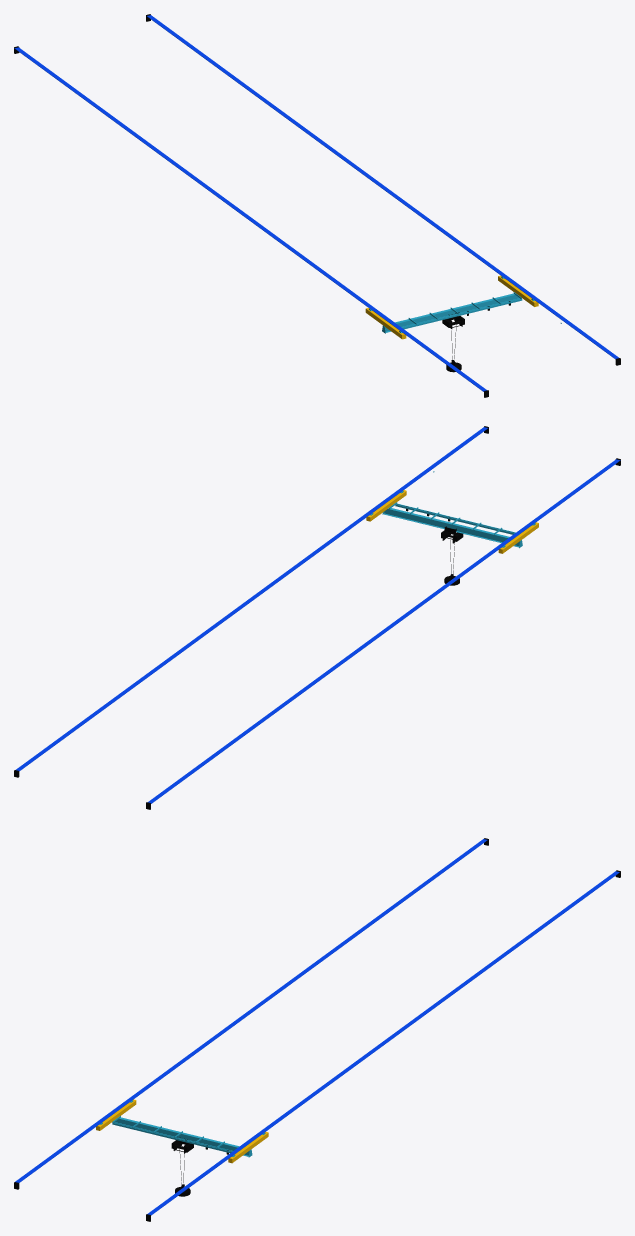
Rendered from Crane_1Piece_updated.fbx.
3 renders of one model, top to bottom at view 1: azimuth 30°, elevation 25°; view 2: azimuth 150°, elevation 25°; view 3: azimuth 330°, elevation 25°, orthographic.
Visible parts, largest first — view 1: Gentry Crane_02, Gentry Crane_11; view 2: Gentry Crane_02, Gentry Crane_11; view 3: Gentry Crane_02, Gentry Crane_11.
Part boxes in pixels (x1,y1,x2,y2): Gentry Crane_02: [14, 15, 618, 391]; Gentry Crane_11: [382, 292, 522, 333]; Gentry Crane_02: [16, 427, 620, 803]; Gentry Crane_11: [382, 502, 522, 548]; Gentry Crane_02: [15, 839, 619, 1215]; Gentry Crane_11: [112, 1116, 252, 1157].
Bounding box in the file's own units: 4.61 × 2.16 × 27.5.
